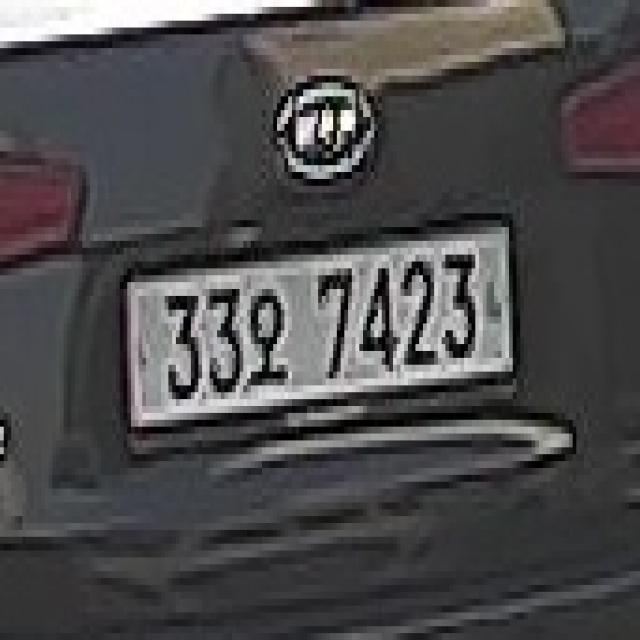2: (400, 255, 438, 372)
3: (202, 275, 247, 406), (161, 282, 202, 406), (442, 248, 479, 364)
4: (360, 262, 400, 372)
7: (318, 262, 356, 378)
license_plate: (124, 220, 512, 434)
o: (247, 282, 288, 386)
